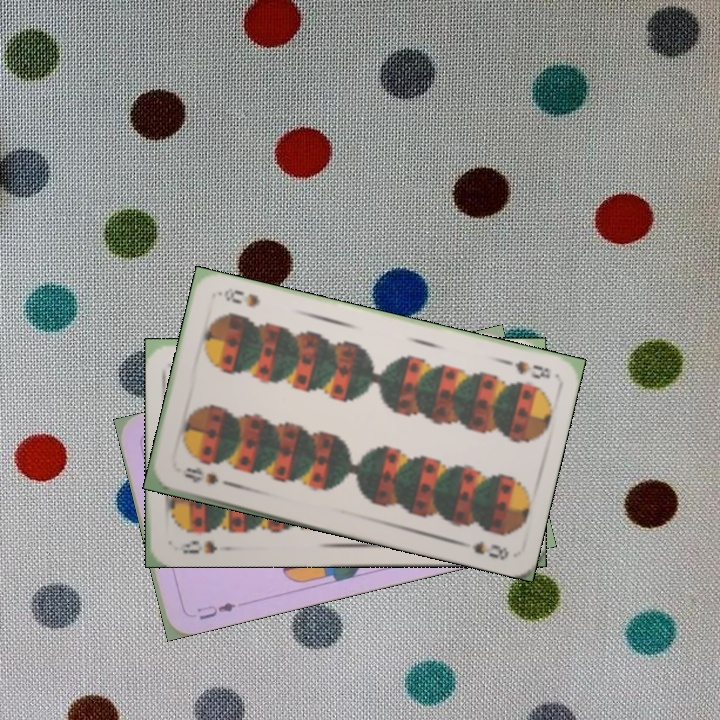EU: (192, 598, 238, 622)
S8: (497, 355, 553, 382), (170, 537, 220, 557), (180, 463, 221, 487)
